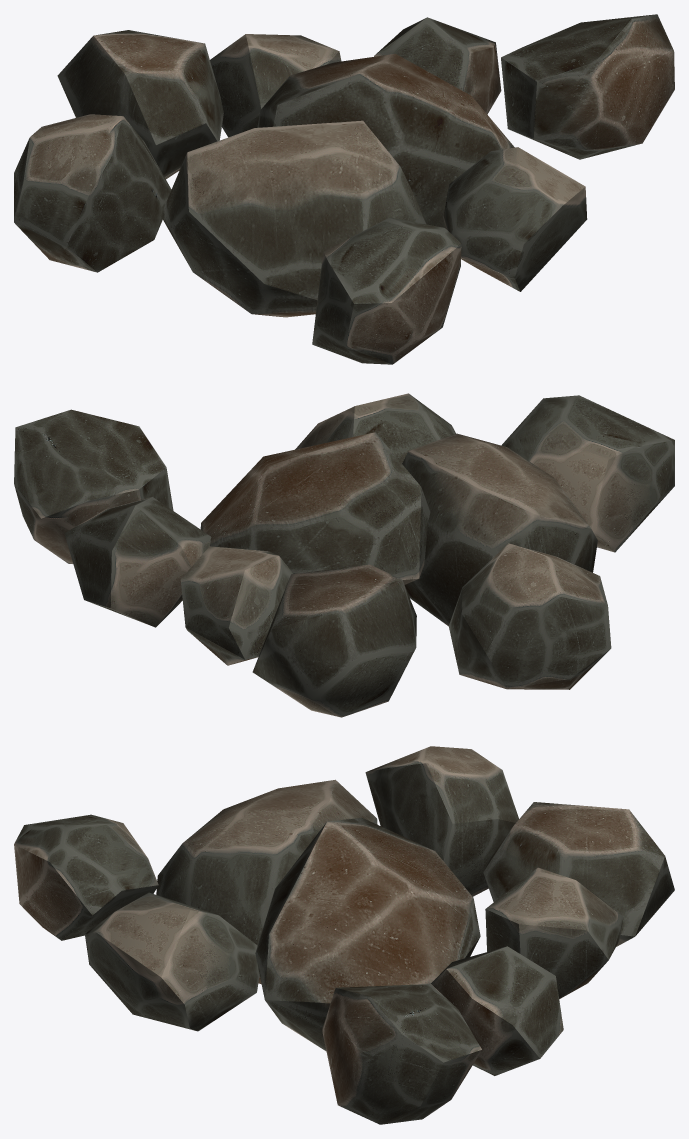
Rendered from pebble_group_4.fbx.
The picture shows the model from 3 angles, top to bottom: view 1: azimuth 30°, elevation 25°; view 2: azimuth 150°, elevation 25°; view 3: azimuth 270°, elevation 25°; orthographic projection. The views are drawn at different scales.
Parts seen in each view (by area): view 1: pebble_group_4; view 2: pebble_group_4; view 3: pebble_group_4.
Boxes of the visible parts, <box> form: pebble_group_4: <box>14,14,674,364</box>; pebble_group_4: <box>14,393,674,717</box>; pebble_group_4: <box>14,746,674,1124</box>.
Bounding box in the file's own units: 1.8 × 0.5395 × 1.63.
